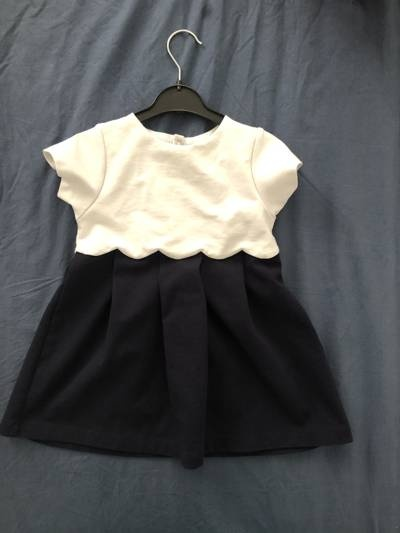Dress: (8, 90, 355, 472)
